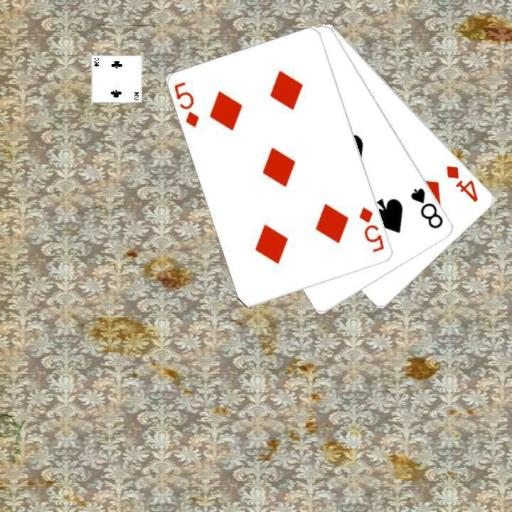card-corner: (408, 184, 445, 230), (443, 162, 480, 204), (356, 204, 386, 254), (171, 79, 201, 129)
